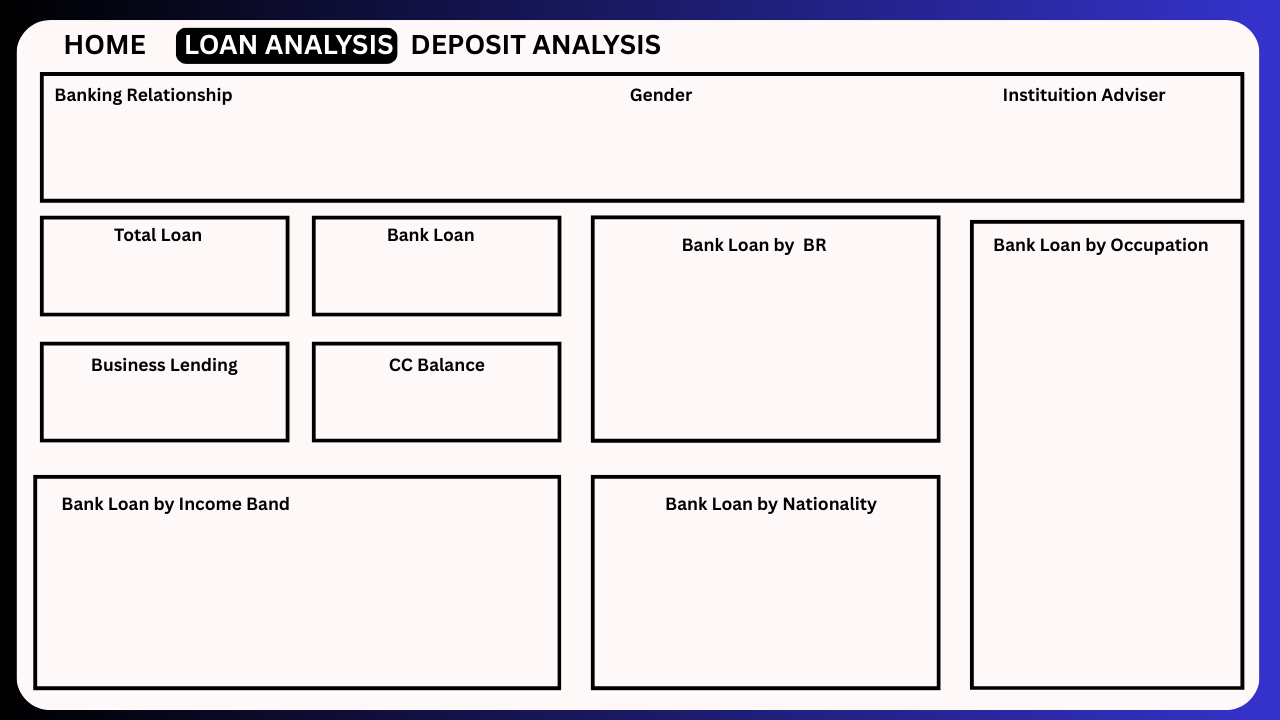

What the dashboard file says about the page in this screenshot:
{"tool":"powerbi","page":{"name":"Loan Analyses","canvas":[1280,720],"ordinal":1},"visuals":[{"type":"card","fields":{"Values":["Sum(Banking.Bank Loans)"]},"box":[287.1,226.5,279.9,76.5],"z":0},{"type":"card","fields":{"Values":["Sum(Banking.Total Loan)"]},"box":[20.2,226.5,279.9,76.5],"z":1000},{"type":"card","fields":{"Values":["Sum(Banking.Credit Card Balance)"]},"box":[300.1,360.7,279.9,76.5],"z":2000},{"type":"card","fields":{"Values":["Sum(Banking.Business Lending)"]},"box":[20.2,360.7,279.9,76.5],"z":3000},{"type":"donutChart","title":"Bank Loans by Income Band","fields":{"Category":["Banking.Income Band"],"Y":["Sum(Banking.Bank Loans)"]},"box":[54.8,510.8,489.1,165.9],"z":4000},{"type":"clusteredColumnChart","fields":{"Category":["Banking.BRId"],"Y":["Sum(Banking.Bank Loans)"]},"box":[597.3,264,323.2,158.7],"z":5000},{"type":"clusteredColumnChart","fields":{"Category":["Banking.Nationality"],"Y":["Sum(Banking.Bank Loans)"]},"box":[597.3,510.8,323.2,170.3],"z":6000},{"type":"clusteredColumnChart","fields":{"Y":["Sum(Banking.Bank Loans)"],"Category":["Banking.Occupation"]},"box":[976.8,278.5,252.5,418.4],"z":7000},{"type":"slicer","fields":{"Values":["Banking.Year of Joining"]},"box":[669.5,11.5,578.6,59.2],"z":8000},{"type":"slicer","fields":{"Values":["Banking.BRId"]},"box":[27.4,111.1,519.4,64.9],"z":9000},{"type":"slicer","fields":{"Values":["Banking.GenderId"]},"box":[567,111.1,313.1,64.9],"z":10000},{"type":"slicer","fields":{"Values":["Banking.IAId"]},"box":[935,121.2,313.1,44.7],"z":11000},{"type":"actionButton","box":[54.8,17.3,98.1,47.6],"z":11002},{"type":"actionButton","box":[417,21.6,252.5,40.4],"z":11003}]}

Visuals, with their boxes in screenshot pixels (x1, y1, x2, y2), scaled from the page's 1280x720 canvas onto the 1280x720 screenshot:
card - Sum(Banking.Bank Loans): BBox(287, 226, 567, 303)
card - Sum(Banking.Total Loan): BBox(20, 226, 300, 303)
card - Sum(Banking.Credit Card Balance): BBox(300, 361, 580, 437)
card - Sum(Banking.Business Lending): BBox(20, 361, 300, 437)
"Bank Loans by Income Band" donutChart: BBox(55, 511, 544, 677)
clusteredColumnChart - Banking.BRId x Sum(Banking.Bank Loans): BBox(597, 264, 920, 423)
clusteredColumnChart - Banking.Nationality x Sum(Banking.Bank Loans): BBox(597, 511, 920, 681)
clusteredColumnChart - Sum(Banking.Bank Loans) x Banking.Occupation: BBox(977, 278, 1229, 697)
slicer - Banking.Year of Joining: BBox(670, 12, 1248, 71)
slicer - Banking.BRId: BBox(27, 111, 547, 176)
slicer - Banking.GenderId: BBox(567, 111, 880, 176)
slicer - Banking.IAId: BBox(935, 121, 1248, 166)
actionButton: BBox(55, 17, 153, 65)
actionButton: BBox(417, 22, 670, 62)
